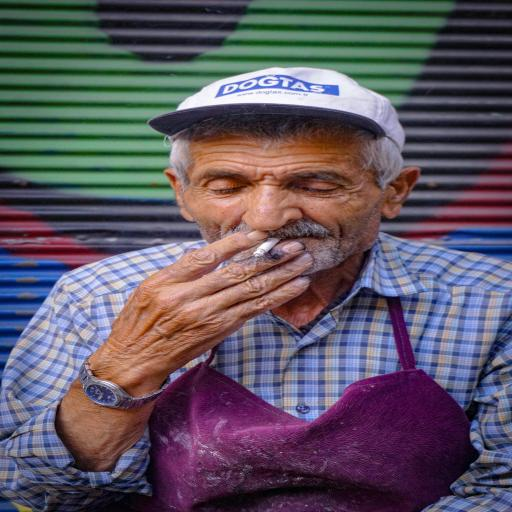terdeteksi merokok: (193, 161, 356, 283)
